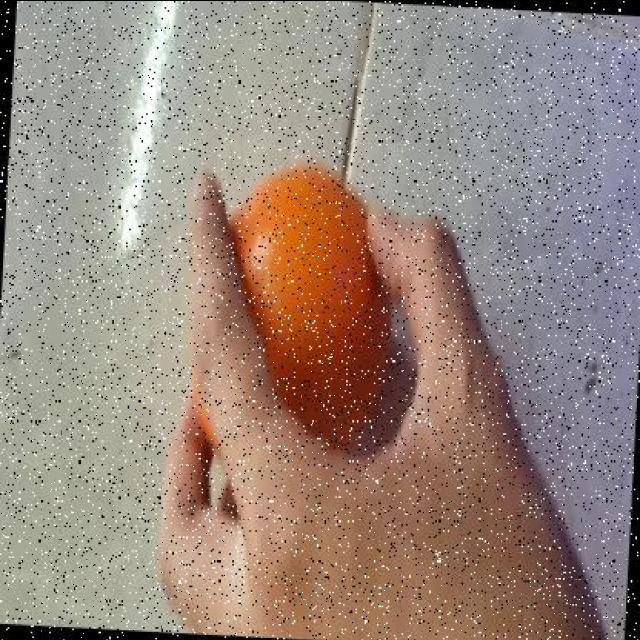Orange: (223, 160, 394, 449)
